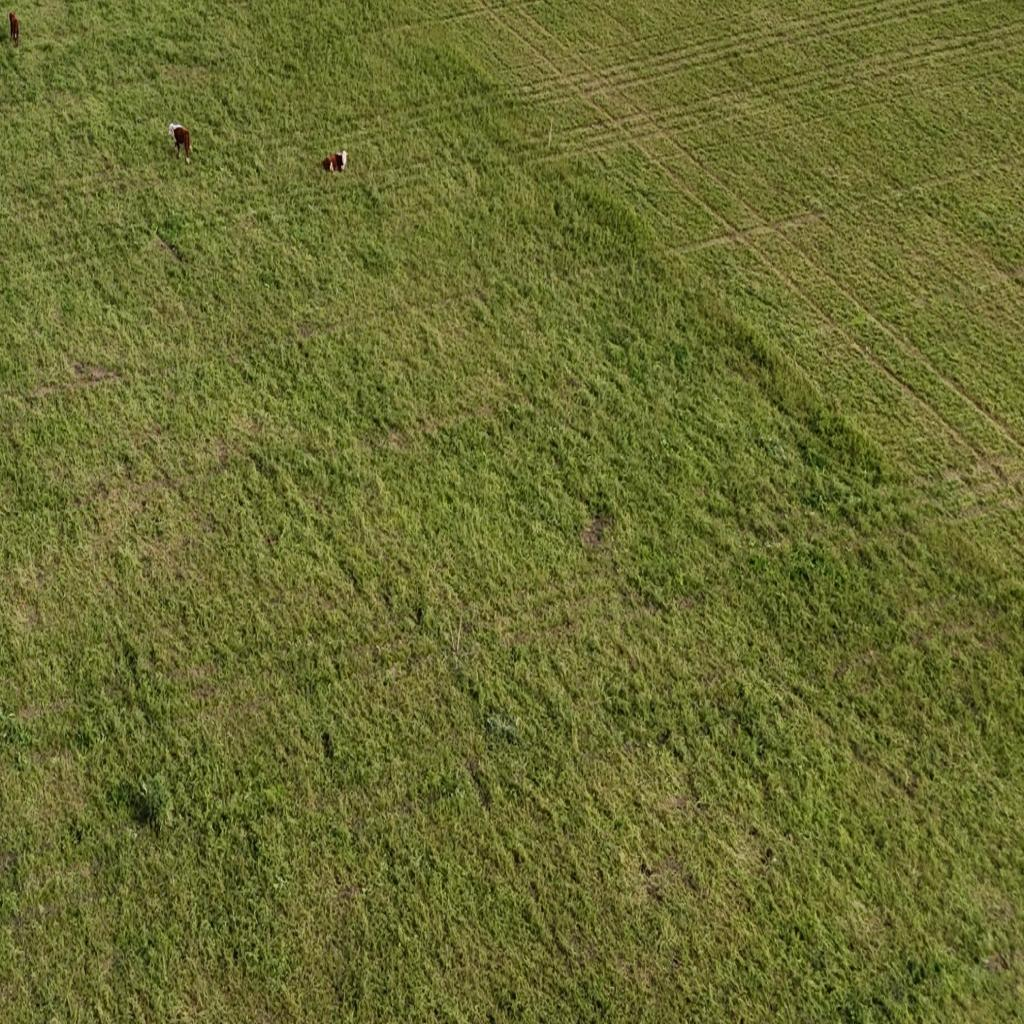cow: (164, 118, 192, 165), (320, 146, 350, 176), (6, 10, 20, 50)
